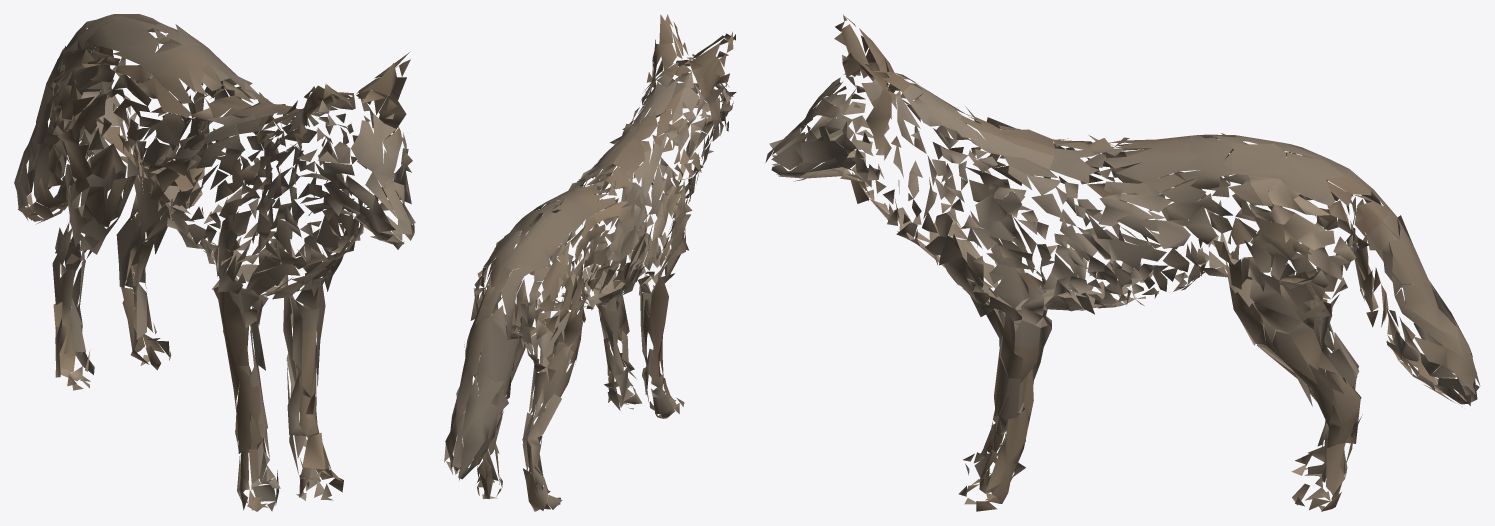
Rendered from coyote.glb.
3 views of the same model, side by side, from view 1: azimuth 30°, elevation 25°; view 2: azimuth 150°, elevation 25°; view 3: azimuth 270°, elevation 25° (orthographic). The views are drawn at different scales.
Parts seen in each view (by area): view 1: LO.001; view 2: LO.001; view 3: LO.001.
Boxes of the visible parts, bbox=[...] form: LO.001: bbox=[14, 14, 415, 511]; LO.001: bbox=[444, 14, 736, 511]; LO.001: bbox=[765, 14, 1480, 511].
Size of the model in its own units: 0.3669 by 1.35 by 1.89.
1 material, 1 textured.
